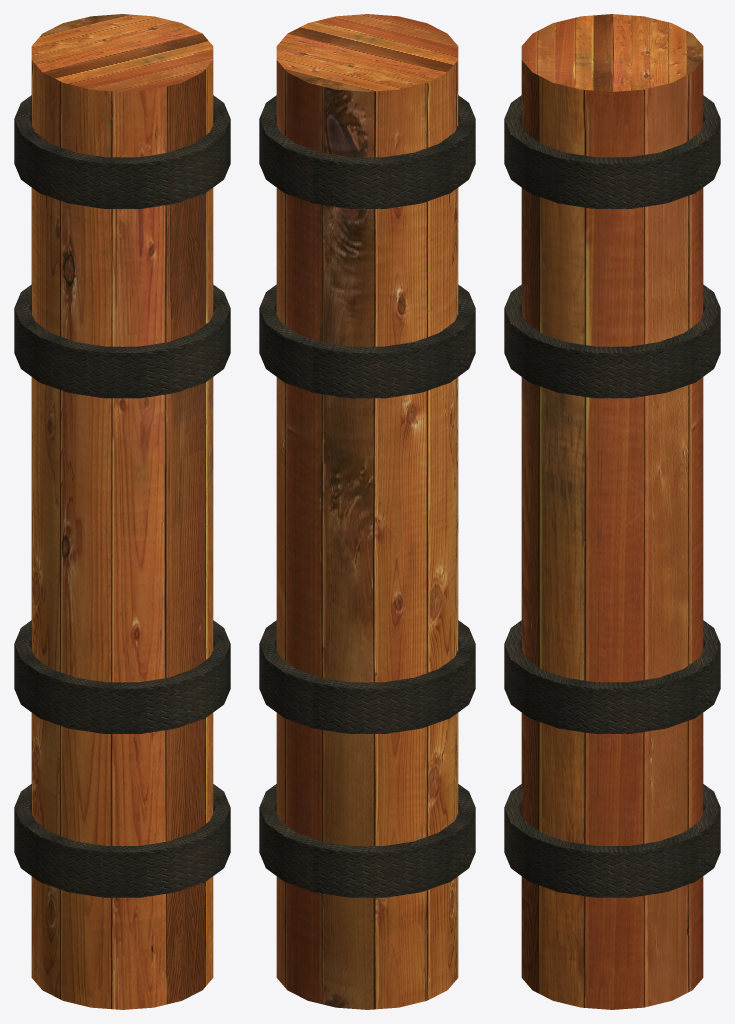
Rendered from WoodPipe.fbx.
The picture shows the model from 3 angles, left to right: view 1: azimuth 30°, elevation 25°; view 2: azimuth 150°, elevation 25°; view 3: azimuth 270°, elevation 25°; orthographic projection.
Parts seen in each view (by area): view 1: Base; view 2: Base; view 3: Base.
Part boxes in pixels (box(x1,y1,x2,y2)): Base: box(14, 14, 230, 1009); Base: box(259, 14, 475, 1009); Base: box(504, 14, 720, 1009).
Bounding box in the file's own units: 19.75 × 93.93 × 20.05.
